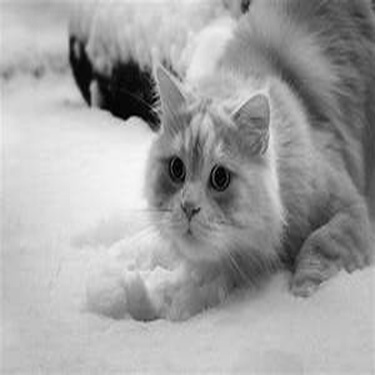cat: (89, 57, 316, 329)
